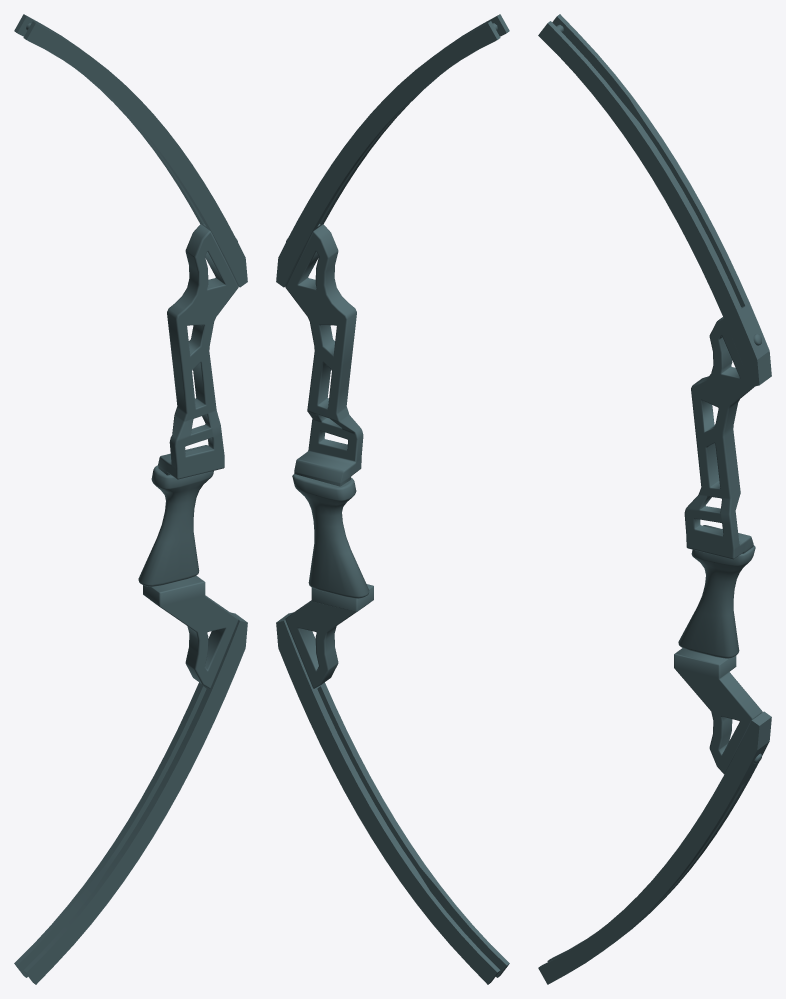
Rendered from model_bow_2.fbx.
3 views of the same model, side by side, from view 1: azimuth 30°, elevation 25°; view 2: azimuth 150°, elevation 25°; view 3: azimuth 330°, elevation 25° (orthographic).
Parts seen in each view (by area): view 1: Model_Bow_Compound; view 2: Model_Bow_Compound; view 3: Model_Bow_Compound.
Boxes of the visible parts, left/top/right/bottom form: Model_Bow_Compound: left=14, top=14, right=247, bottom=984; Model_Bow_Compound: left=276, top=14, right=509, bottom=984; Model_Bow_Compound: left=538, top=14, right=771, bottom=984.
Bounding box in the file's own units: 34 × 141 × 6.49.
